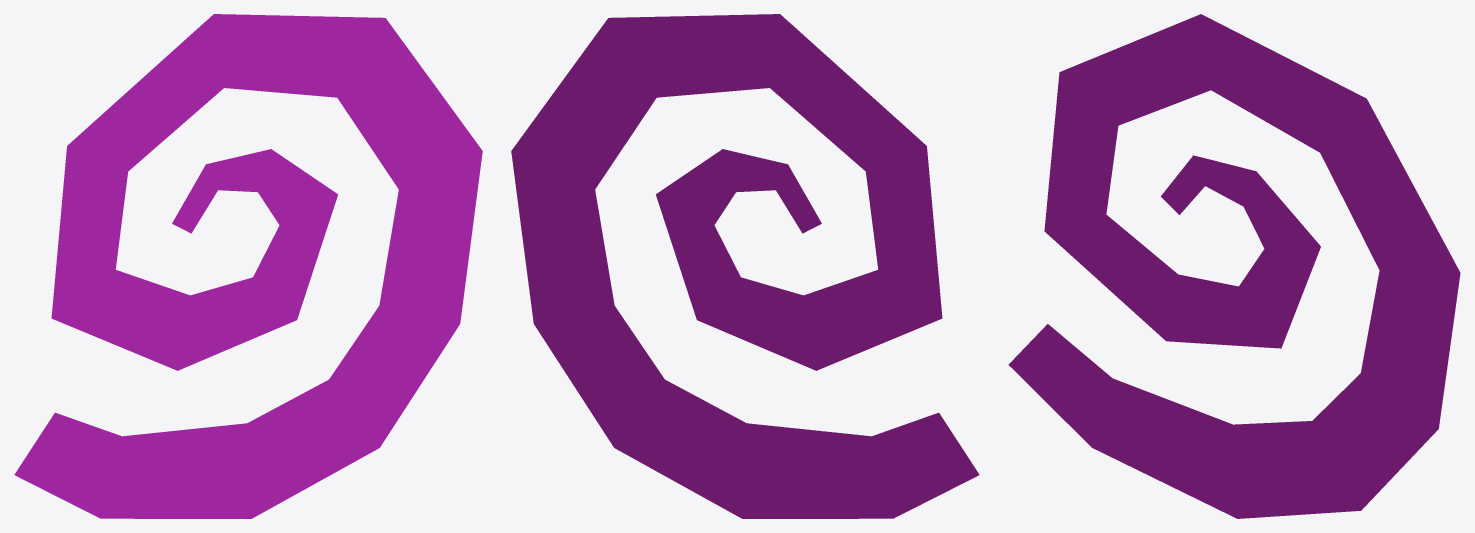
File: neonCavePaintingSpiralPink.glb
3 renders of one model, left to right at view 1: azimuth 30°, elevation 25°; view 2: azimuth 150°, elevation 25°; view 3: azimuth 330°, elevation 25°, orthographic. The views are drawn at different scales.
Visible parts, largest first — view 1: neonCavePaintingSpiralPink; view 2: neonCavePaintingSpiralPink; view 3: neonCavePaintingSpiralPink.
Part boxes in pixels (x1,y1,x2,y2): neonCavePaintingSpiralPink: (14,14,482,518); neonCavePaintingSpiralPink: (511,14,979,518); neonCavePaintingSpiralPink: (1008,14,1460,518).
Size of the model in its own units: 0.1439 by 0.1509 by 2.46e-07.
